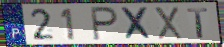1: (59, 7, 76, 41)
2: (30, 8, 56, 42)
P: (90, 6, 120, 42)
T: (185, 7, 210, 39)
X: (118, 6, 155, 41), (152, 6, 185, 41)
